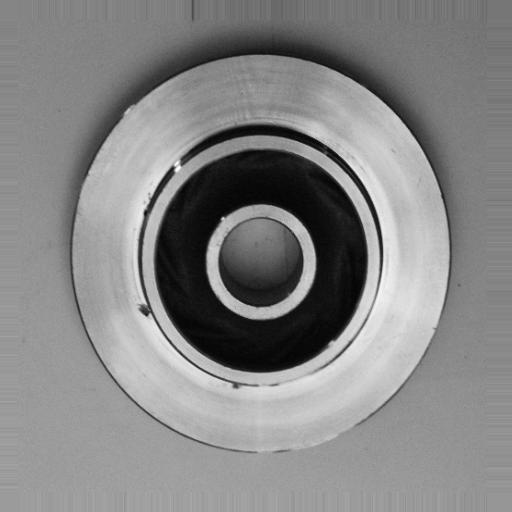crack: (130, 291, 165, 331), (222, 369, 261, 400)
unpolished_casting: (67, 50, 457, 458)
